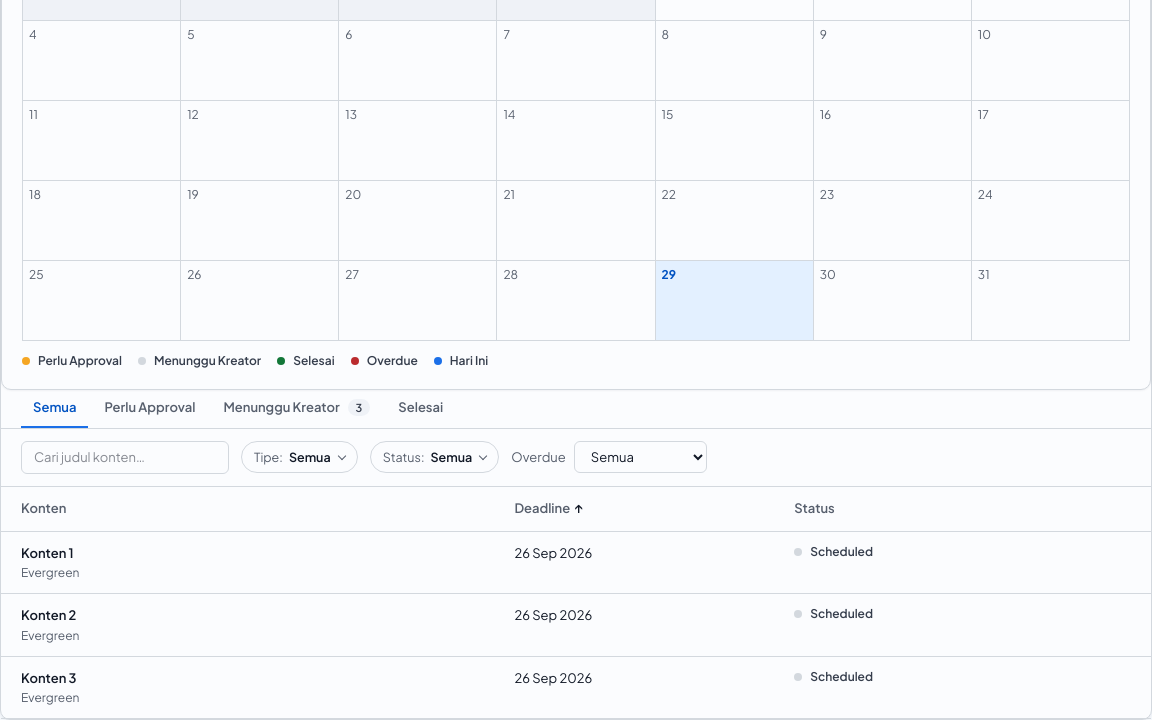
Test: CreatorContentBoard › the Content Detail panel › closes without touching the list
(page scrolled)
What coordinates should you click on to do the following:
click the button "Konten 1"
I would click on:
 (47, 553)
Its box is [21,544,74,563].
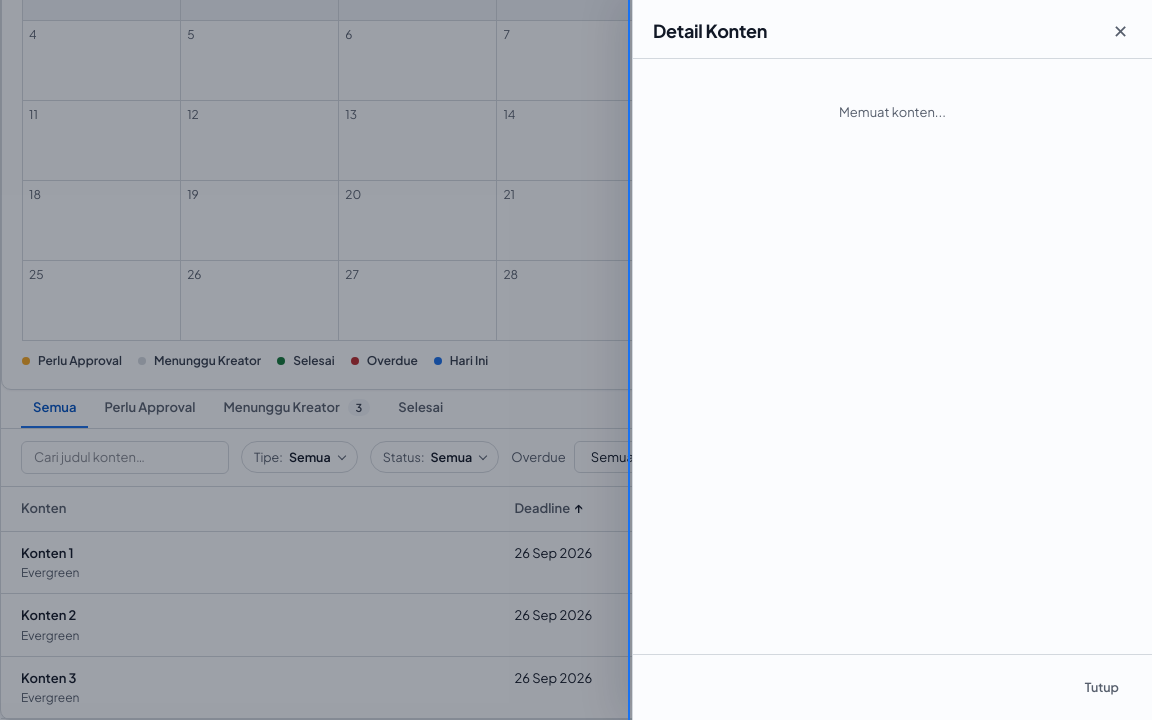
What coordinates should you click on to do the following:
click the button "Tutup"
I would click on:
 (1102, 688)
Its box is [1072,671,1132,704].
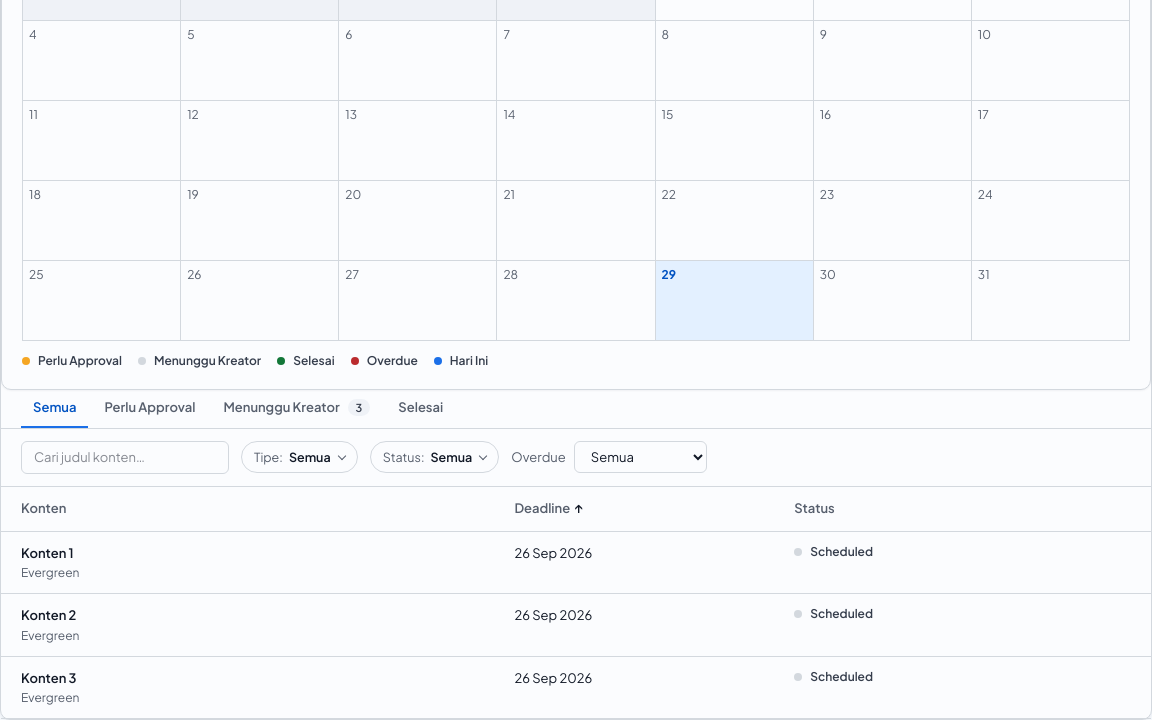
Result: the dialog is gone
